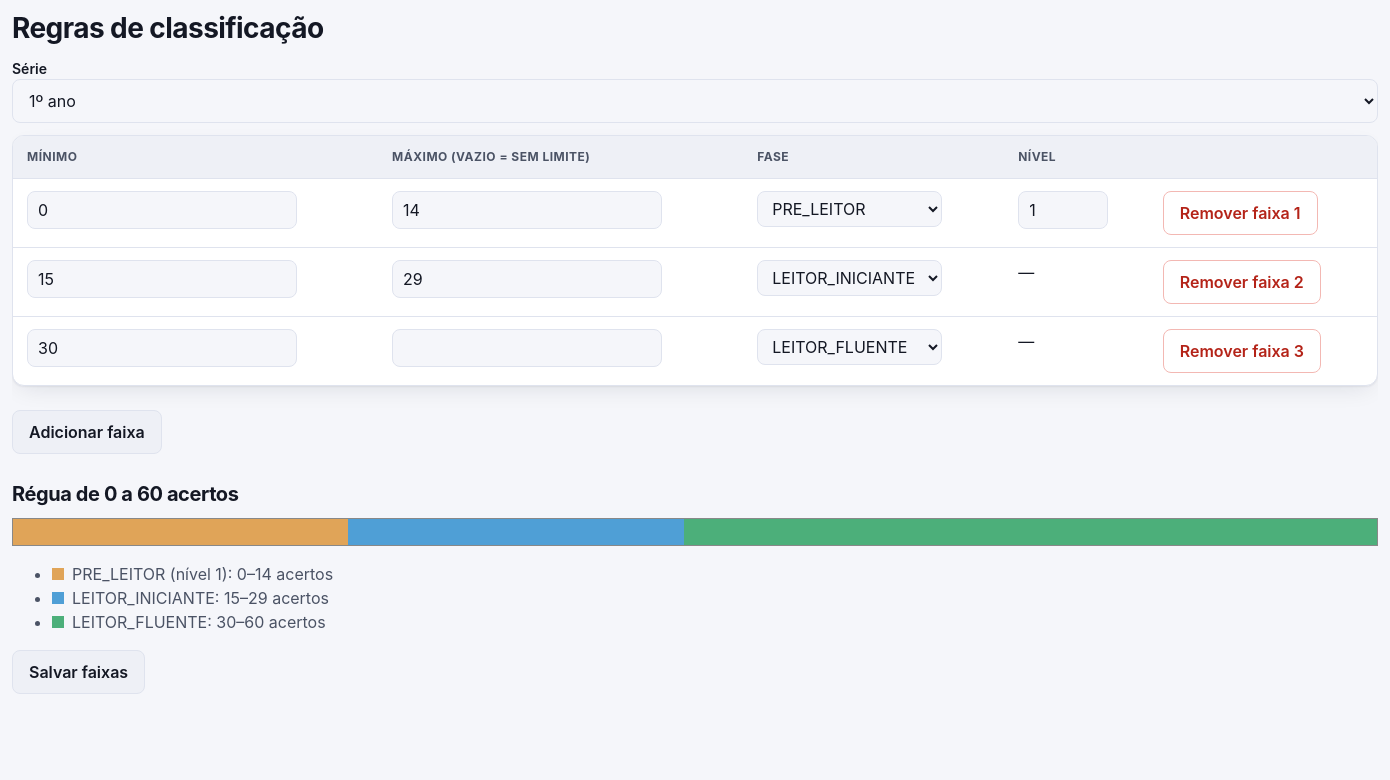
Test: RegrasClassificacaoPage › highlights an overlap before sending
Replace the text in the number field named "Mínimo da faixa 2" with "10" at (162, 279), box [27, 260, 297, 298]
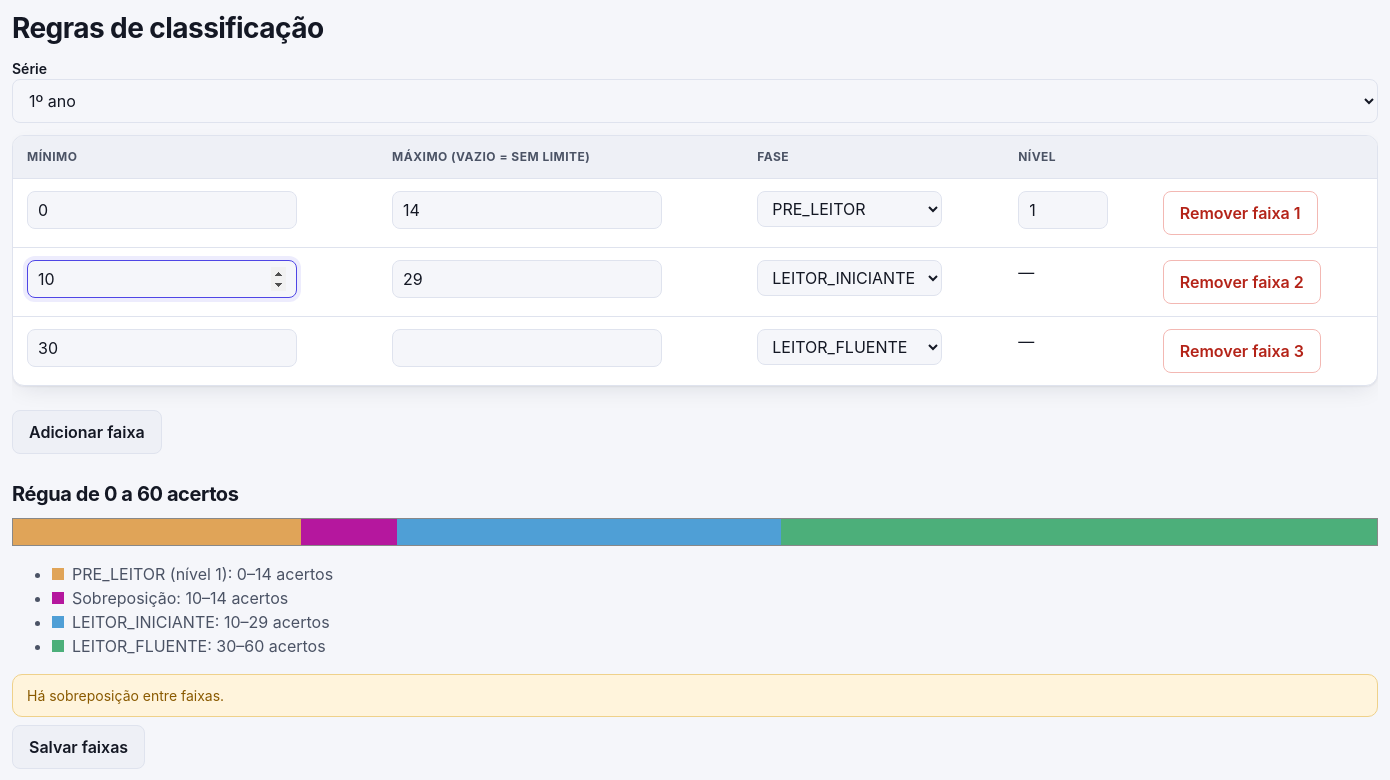
Check: the text "Há sobreposição entre faixas." is shown, box [12, 674, 1378, 717]
Check: the list item "Sobreposição: 10–14 acertos" is shown, box [52, 588, 288, 608]
